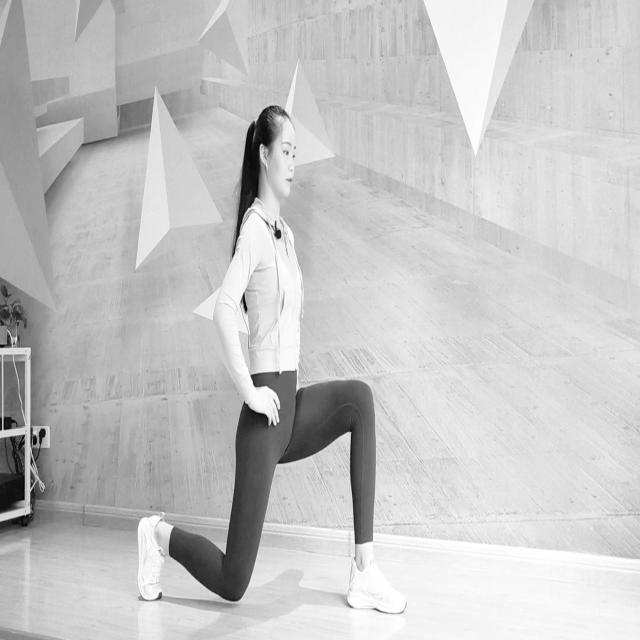stand: (166, 81, 332, 600)
